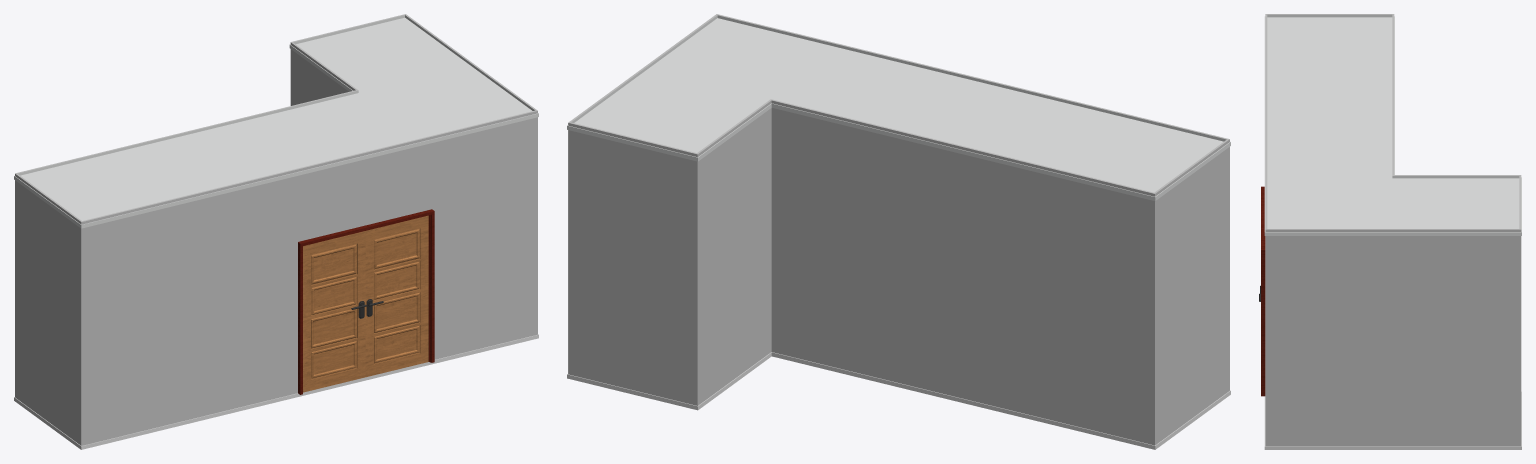
File: ProcTHOR-Train-106.glb
3 renders of one model, left to right at view 1: azimuth 30°, elevation 25°; view 2: azimuth 150°, elevation 25°; view 3: azimuth 270°, elevation 25°, orthographic. The views are drawn at different scales.
Parts seen in each view (by area): view 1: WallInside#wall|exterior|0.00|3.30|6.60|3.30, Ceiling#room|2|c, WallInside#wall|exterior|6.60|1.65|6.60|3.30, Doorway_Door_7b, Doorway_Door_7a, Doorway_Double_7, Floor#room|2|f, WallInside#wall|exterior|1.65|0.00|1.65|1.65, WallInside#wall|2|1.65|1.65|6.60|1.65, WallInside#wall|2|0.00|3.30|6.60|3.30, WallInside#wall|2|0.00|0.00|0.00|3.30; view 2: WallInside#wall|exterior|1.65|1.65|6.60|1.65, Ceiling#room|2|c, WallInside#wall|exterior|0.00|0.00|1.65|0.00, WallInside#wall|exterior|6.60|1.65|6.60|3.30, WallInside#wall|exterior|1.65|0.00|1.65|1.65, Floor#room|2|f, WallInside#wall|2|0.00|3.30|6.60|3.30, WallInside#wall|2|0.00|0.00|0.00|3.30; view 3: WallInside#wall|exterior|0.00|0.00|0.00|3.30, Ceiling#room|2|c, Floor#room|2|f, Doorway_Double_7, WallInside#wall|exterior|0.00|3.30|6.60|3.30, WallInside#wall|2|1.65|0.00|1.65|1.65, WallInside#wall|2|6.60|1.65|6.60|3.30, WallInside#wall|2|0.00|3.30|6.60|3.30, WallInside#wall|2|1.65|1.65|6.60|1.65, WallInside#wall|exterior|1.65|1.65|6.60|1.65.
Part boxes in pixels (x1,y1,x2,y2): WallInside#wall|exterior|0.00|3.30|6.60|3.30: [81, 110, 537, 445]; Ceiling#room|2|c: [14, 17, 538, 228]; WallInside#wall|exterior|6.60|1.65|6.60|3.30: [15, 173, 81, 445]; Doorway_Door_7b: [365, 215, 428, 377]; Doorway_Door_7a: [303, 231, 365, 392]; Doorway_Double_7: [298, 209, 434, 394]; Floor#room|2|f: [14, 334, 538, 449]; WallInside#wall|exterior|1.65|0.00|1.65|1.65: [290, 42, 357, 105]; WallInside#wall|2|1.65|1.65|6.60|1.65: [16, 90, 358, 175]; WallInside#wall|2|0.00|3.30|6.60|3.30: [82, 110, 536, 221]; WallInside#wall|2|0.00|0.00|0.00|3.30: [404, 14, 535, 110]; WallInside#wall|exterior|1.65|1.65|6.60|1.65: [770, 99, 1154, 445]; Ceiling#room|2|c: [567, 18, 1230, 200]; WallInside#wall|exterior|0.00|0.00|1.65|0.00: [568, 122, 697, 405]; WallInside#wall|exterior|6.60|1.65|6.60|3.30: [1155, 139, 1229, 445]; WallInside#wall|exterior|1.65|0.00|1.65|1.65: [697, 99, 771, 405]; Floor#room|2|f: [567, 352, 1230, 449]; WallInside#wall|2|0.00|3.30|6.60|3.30: [716, 14, 1228, 141]; WallInside#wall|2|0.00|0.00|0.00|3.30: [569, 14, 718, 122]; WallInside#wall|exterior|0.00|0.00|0.00|3.30: [1265, 229, 1521, 446]; Ceiling#room|2|c: [1264, 16, 1521, 235]; Floor#room|2|f: [1264, 391, 1521, 449]; Doorway_Double_7: [1261, 186, 1265, 396]; WallInside#wall|exterior|0.00|3.30|6.60|3.30: [1265, 14, 1266, 445]; WallInside#wall|2|1.65|0.00|1.65|1.65: [1392, 175, 1520, 178]; WallInside#wall|2|6.60|1.65|6.60|3.30: [1266, 14, 1393, 17]; WallInside#wall|2|0.00|3.30|6.60|3.30: [1266, 14, 1267, 229]; WallInside#wall|2|1.65|1.65|6.60|1.65: [1392, 14, 1393, 177]; WallInside#wall|exterior|1.65|1.65|6.60|1.65: [1393, 14, 1394, 175].
Size of the model in its own units: 6.64 by 3.15 by 3.41.
51 materials, 12 textured.
